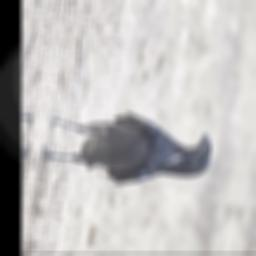Crow: (37, 100, 218, 198)
